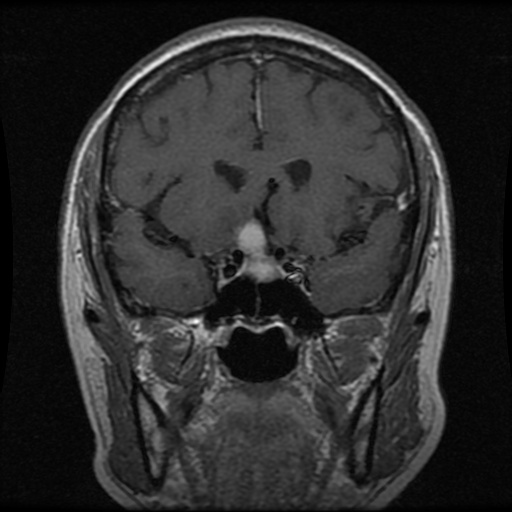pituitary: (237, 223, 283, 283)
